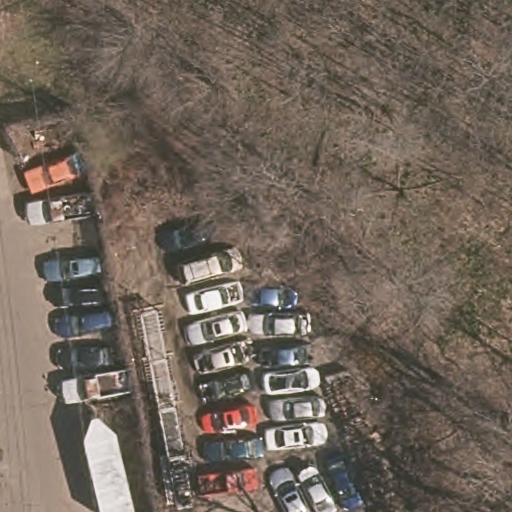DT: (26, 118, 56, 157)
